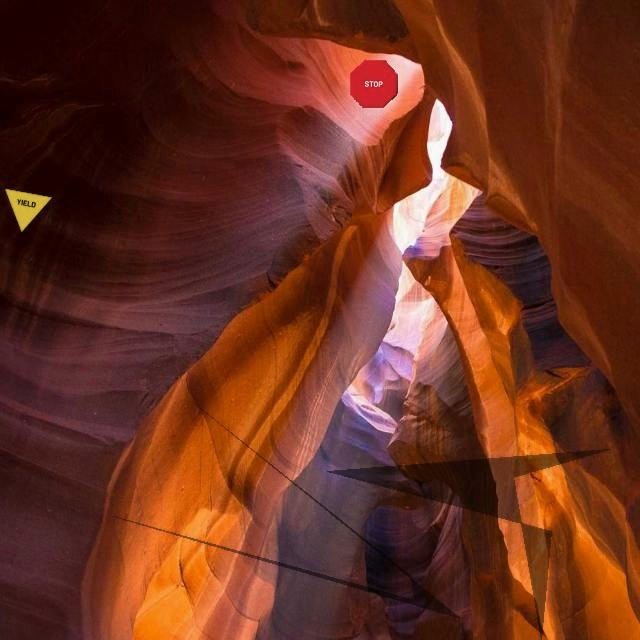STOP: (349, 59, 398, 108)
YIELD: (4, 188, 53, 233)
